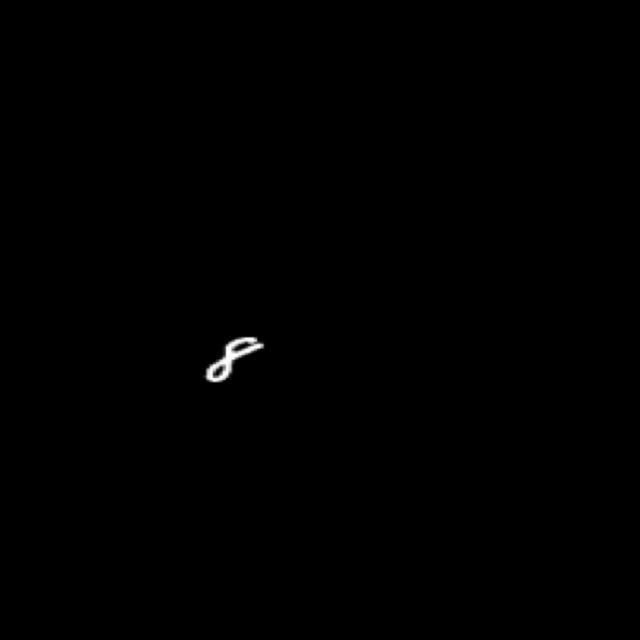eight -8-: (193, 330, 270, 390)
